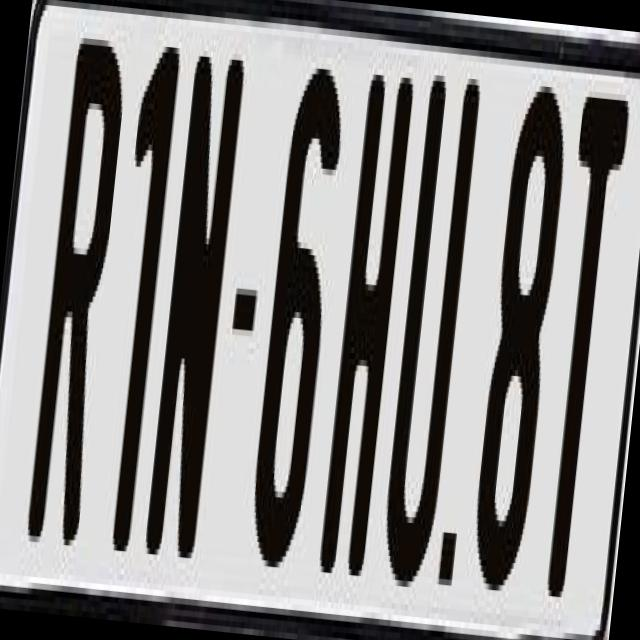1: (88, 26, 182, 558)
6: (245, 66, 354, 570)
8: (463, 71, 570, 610)
H: (316, 62, 417, 594)
N: (144, 38, 248, 564)
R: (22, 20, 130, 546)
T: (528, 90, 630, 628)
U: (376, 69, 484, 606)
